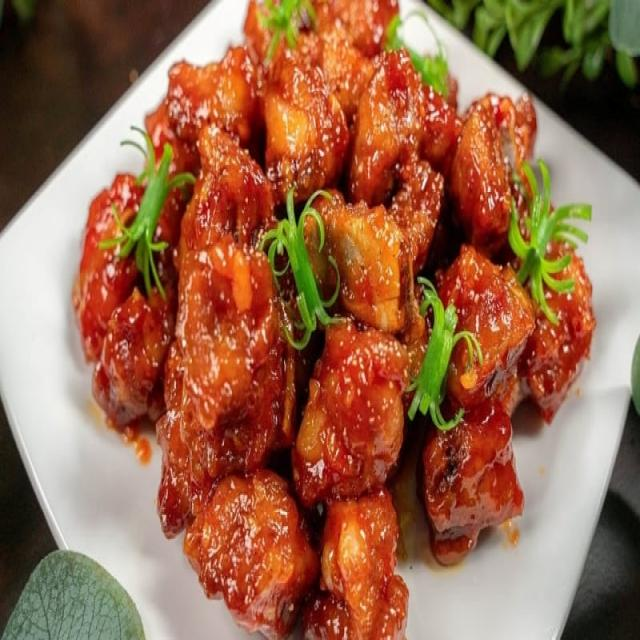suon xao: (74, 0, 594, 639)
